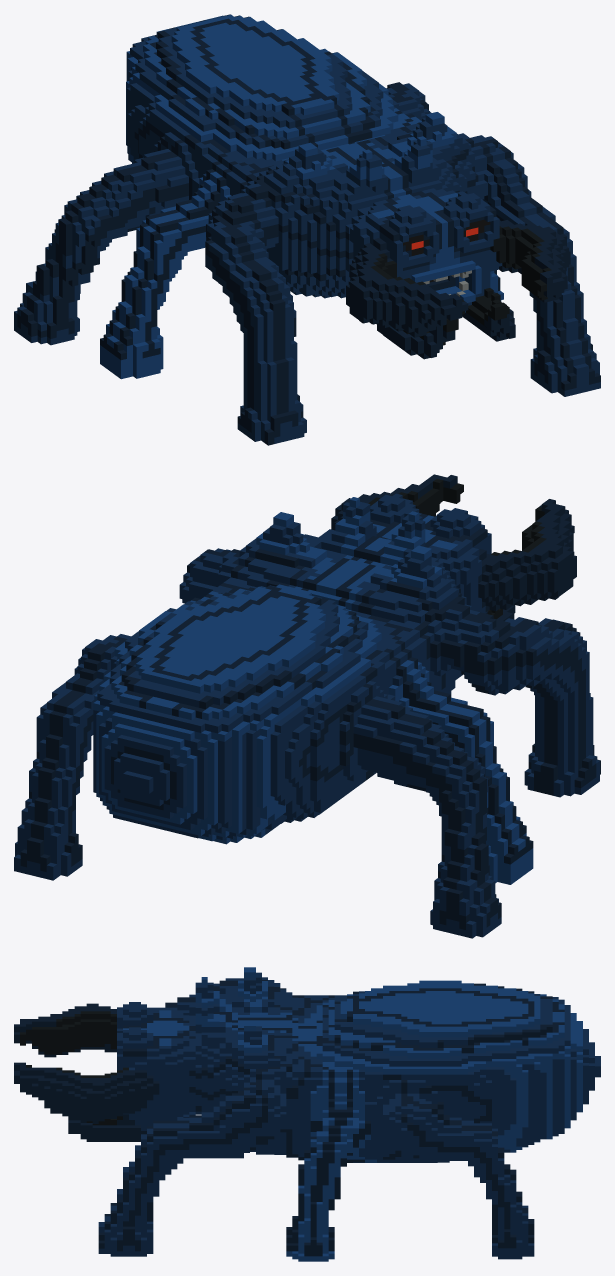
The model's file is beetle_walk_blue_v1-2.obj.
3 views of the same model, one above another, from view 1: azimuth 30°, elevation 25°; view 2: azimuth 150°, elevation 25°; view 3: azimuth 270°, elevation 25° (orthographic). The views are drawn at different scales.
Bounding box in the file's own units: 6.6 × 3.7 × 9.7.
Materials: 1 (1 with a texture image).
